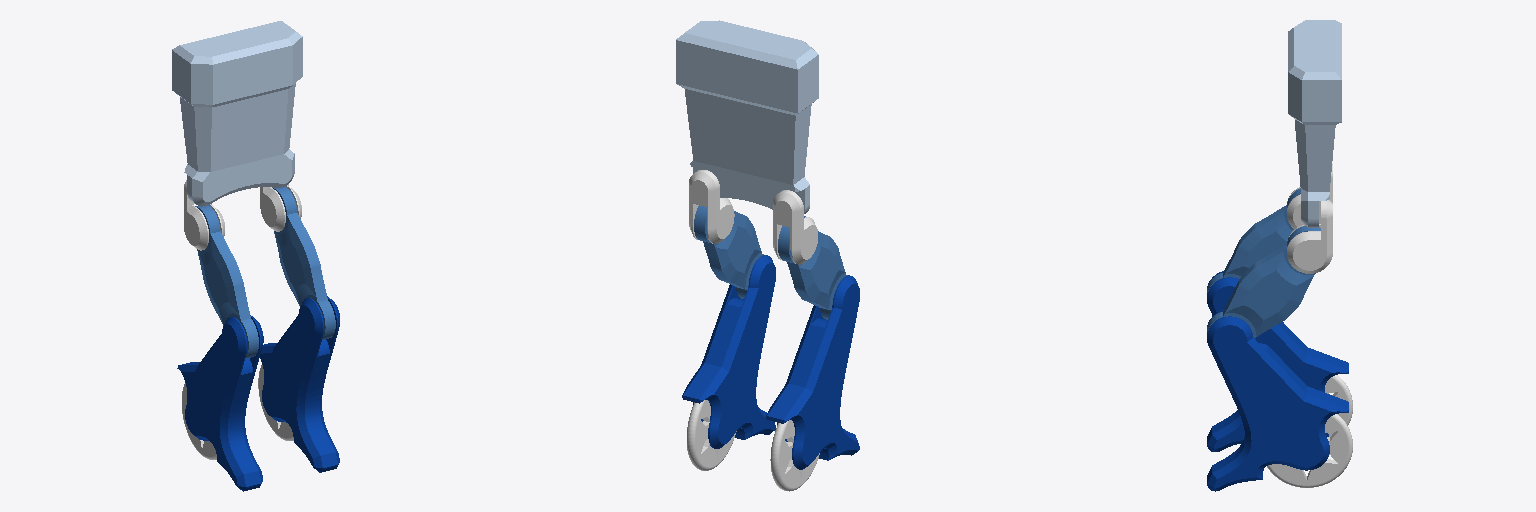
The robot description file, URDF, robot "biped":
<?xml version="1.0"?>
<robot name="biped">
    <link name="torso">
        <visual>
            <origin xyz="0 0 0" rpy="0 -0 0" />
            <geometry>
                <mesh filename="../meshes/torso.stl"/>
            </geometry>
            <material name="torso_material">
                <color rgba="0.76078431372549015776 0.83921568627450982003 0.92549019607843141522 1.0"/>
            </material>
        </visual>
        <collision>
            <origin xyz="0 0 0" rpy="0 -0 0" />
            <geometry>
                <mesh filename="../meshes/torso.stl"/>
            </geometry>
        </collision>
        <inertial>
            <origin xyz="-8.9979052879127539742e-09 3.356116910790327982e-07 -2.7069631293067085747e-07" rpy="0 0 0"/>
            <mass value="28.363312152120570886" />
            <inertia ixx="0.68698638440049342169" ixy="-3.4750011124061332784e-08"  ixz="-6.0755638353194698491e-09" iyy="1.0172231869197894127" iyz="-0.013678745958702194854" izz="0.42402971592988591976" />
        </inertial>
    </link>
    <link name="left_coxa">
        <visual>
            <origin xyz="-0.14999999999999999445 0.30524878685027001524 0.012279235532629700217" rpy="-1.570796326794896558 -0 0" />
            <geometry>
                <mesh filename="../meshes/left_coxa.stl"/>
            </geometry>
            <material name="left_coxa_material">
                <color rgba="0.91764705882352937127 0.91764705882352937127 0.91764705882352937127 1.0"/>
            </material>
        </visual>
        <collision>
            <origin xyz="-0.14999999999999999445 0.30524878685027001524 0.012279235532629700217" rpy="-1.570796326794896558 -0 0" />
            <geometry>
                <mesh filename="../meshes/left_coxa.stl"/>
            </geometry>
        </collision>
        <inertial>
            <origin xyz="2.7755575615628913511e-17 -0.090818300238879490216 0.016364668807970432496" rpy="0 0 0"/>
            <mass value="1.1561236966095187473" />
            <inertia ixx="0.0063095952447391025555" ixy="0"  ixz="0" iyy="0.0029985481606530457396" iyz="0.0015427683188057432235" izz="0.0059689235358662984937" />
        </inertial>
    </link>
    <link name="left_femur">
        <visual>
            <origin xyz="-0.077279235532629692029 -0.43524878685027001968 -1.1388229999999999187" rpy="-1.570796326794896558 -1.570796326794896558 0" />
            <geometry>
                <mesh filename="../meshes/left_femur.stl"/>
            </geometry>
            <material name="left_femur_material">
                <color rgba="0.32549019607843138191 0.52941176470588235947 0.75294117647058822484 1.0"/>
            </material>
        </visual>
        <collision>
            <origin xyz="-0.077279235532629692029 -0.43524878685027001968 -1.1388229999999999187" rpy="-1.570796326794896558 -1.570796326794896558 0" />
            <geometry>
                <mesh filename="../meshes/left_femur.stl"/>
            </geometry>
        </collision>
        <inertial>
            <origin xyz="-0.1297128755113995946 0.15223047101712150475 -0.019999953319697283405" rpy="0 0 0"/>
            <mass value="4.1258994250157527972" />
            <inertia ixx="0.04804849519718042139" ixy="0.032652119805037210787"  ixz="7.0249968935296640869e-09" iyy="0.037549187361512366412" iyz="1.3861588896791626101e-09" izz="0.083922011369516838486" />
        </inertial>
    </link>
    <link name="left_tibia">
        <visual>
            <origin xyz="0.28214499999999997915 0.73971399999999998265 0.20499999999999998779" rpy="1.570796326794896558 1.570796326794896558 0" />
            <geometry>
                <mesh filename="../meshes/left_tibia.stl"/>
            </geometry>
            <material name="left_tibia_material">
                <color rgba="0.08627450980392156743 0.31764705882352939348 0.69019607843137253944 1.0"/>
            </material>
        </visual>
        <collision>
            <origin xyz="0.28214499999999997915 0.73971399999999998265 0.20499999999999998779" rpy="1.570796326794896558 1.570796326794896558 0" />
            <geometry>
                <mesh filename="../meshes/left_tibia.stl"/>
            </geometry>
        </collision>
        <inertial>
            <origin xyz="0.11124662394100411078 -0.25522951354060685603 0.025004196348467289113" rpy="0 0 0"/>
            <mass value="10.152301233862477403" />
            <inertia ixx="0.2222010290982615599" ixy="0.021329619129980974951"  ixz="-2.9627304863256658218e-06" iyy="0.097168859866995693775" iyz="4.7988839230867566464e-06" izz="0.29991636812185856753" />
        </inertial>
    </link>
    <link name="left_wheel">
        <visual>
            <origin xyz="0.032144999999999999962 -1.1397140000000001159 -0.19500000000000000666" rpy="-1.570796326794896558 -1.570796326794896558 0" />
            <geometry>
                <mesh filename="../meshes/left_wheel.stl"/>
            </geometry>
            <material name="left_wheel_material">
                <color rgba="0.91764705882352937127 0.91764705882352937127 0.91764705882352937127 1.0"/>
            </material>
        </visual>
        <collision>
            <origin xyz="0.032144999999999999962 -1.1397140000000001159 -0.19500000000000000666" rpy="-1.570796326794896558 -1.570796326794896558 0" />
            <geometry>
                <mesh filename="../meshes/left_wheel.stl"/>
            </geometry>
        </collision>
        <inertial>
            <origin xyz="6.9388939039072283776e-18 -4.4408920985006261617e-16 -0.015000000000000013323" rpy="0 0 0"/>
            <mass value="1.8174409691886610485" />
            <inertia ixx="0.010845472934987908376" ixy="0"  ixz="0" iyy="0.010845472934987901437" iyz="0" izz="0.021431048747843635394" />
        </inertial>
    </link>
    <joint name="left_wheel" type="continuous">
        <origin xyz="0.24999999999999997224 -0.40000000000000013323 0.010000000000000036637" rpy="3.141592653589793116 -0 0" />
        <parent link="left_tibia" />
        <child link="left_wheel" />
        <axis xyz="0 0 1"/>
        <limit effort="200" velocity="20" />
        <joint_properties friction="0.0"/>
    </joint>
    <joint name="left_tibia" type="revolute">
        <origin xyz="-0.25942423553262966562 0.30446521314972985195 0.0049999999999998101519" rpy="3.141592653589793116 -6.1629758220391547298e-33 -1.8991135491519593278e-65" />
        <parent link="left_femur" />
        <child link="left_tibia" />
        <axis xyz="0 0 1"/>
        <limit effort="200" velocity="20" lower="-1.570796326794896558" upper="0.52359877559829881566"/>
        <joint_properties friction="0.0"/>
    </joint>
    <joint name="left_femur" type="revolute">
        <origin xyz="-0.02000000000000010103 -0.13000000000000011546 0.034999999999999899247" rpy="3.141592653589793116 1.570796326794896558 0" />
        <parent link="left_coxa" />
        <child link="left_femur" />
        <axis xyz="0 0 1"/>
        <limit effort="200" velocity="20" lower="-1.570796326794896558" upper="1.3089969389957472057"/>
        <joint_properties friction="0.0"/>
    </joint>
    <joint name="left_coxa" type="revolute">
        <origin xyz="0.14999999999999999445 0.017279235532629701189 -0.30524878685027001524" rpy="1.570796326794896558 -0 0" />
        <parent link="torso" />
        <child link="left_coxa" />
        <axis xyz="0 0 1"/>
        <limit effort="200" velocity="20" lower="-0.1745329251994329478" upper="1.570796326794896558"/>
        <joint_properties friction="0.0"/>
    </joint>
    <link name="right_coxa">
        <visual>
            <origin xyz="-0.015000000000000013323 -0.83446521314972998962 0.04442423553262969671" rpy="-1.570796326794896558 -0 0" />
            <geometry>
                <mesh filename="../meshes/right_coxa.stl"/>
            </geometry>
            <material name="right_coxa_material">
                <color rgba="0.91764705882352937127 0.91764705882352937127 0.91764705882352937127 1.0"/>
            </material>
        </visual>
        <collision>
            <origin xyz="-0.015000000000000013323 -0.83446521314972998962 0.04442423553262969671" rpy="-1.570796326794896558 -0 0" />
            <geometry>
                <mesh filename="../meshes/right_coxa.stl"/>
            </geometry>
        </collision>
        <inertial>
            <origin xyz="-1.0408340855860842566e-17 -0.090818300238879490216 0.016364668807970435965" rpy="0 0 0"/>
            <mass value="1.1561236966095191914" />
            <inertia ixx="0.0063095952447391042903" ixy="0"  ixz="0" iyy="0.0029985481606530474744" iyz="0.0015427683188057436572" izz="0.0059689235358663002284" />
        </inertial>
    </link>
    <link name="right_femur">
        <visual>
            <origin xyz="-0.10942423553262999036 0.70446521314972998518 0.93382299999999995865" rpy="1.570796326794896558 1.570796326794896558 0" />
            <geometry>
                <mesh filename="../meshes/right_femur.stl"/>
            </geometry>
            <material name="right_femur_material">
                <color rgba="0.32549019607843138191 0.52941176470588235947 0.75294117647058822484 1.0"/>
            </material>
        </visual>
        <collision>
            <origin xyz="-0.10942423553262999036 0.70446521314972998518 0.93382299999999995865" rpy="1.570796326794896558 1.570796326794896558 0" />
            <geometry>
                <mesh filename="../meshes/right_femur.stl"/>
            </geometry>
        </collision>
        <inertial>
            <origin xyz="-0.12971204680658918185 0.15223262058036557409 -0.02000002071481365995" rpy="0 0 0"/>
            <mass value="4.1250763406506321118" />
            <inertia ixx="0.048046967303217578971" ixy="0.032652712228342262168"  ixz="7.0251366734096470184e-09" iyy="0.03754734179176269504" iyz="1.3865690515188241738e-09" izz="0.083919407011859487033" />
        </inertial>
    </link>
    <link name="right_tibia">
        <visual>
            <origin xyz="0.25 -0.4000000000000000222 0.010000000000000008882" rpy="-1.570796326794896558 -1.570796326794896558 0" />
            <geometry>
                <mesh filename="../meshes/right_tibia.stl"/>
            </geometry>
            <material name="right_tibia_material">
                <color rgba="0.08627450980392156743 0.31764705882352939348 0.69019607843137253944 1.0"/>
            </material>
        </visual>
        <collision>
            <origin xyz="0.25 -0.4000000000000000222 0.010000000000000008882" rpy="-1.570796326794896558 -1.570796326794896558 0" />
            <geometry>
                <mesh filename="../meshes/right_tibia.stl"/>
            </geometry>
        </collision>
        <inertial>
            <origin xyz="0.11124579891706699863 -0.25522991746205125896 0.025003697068889038646" rpy="0 0 0"/>
            <mass value="10.15231375366467681" />
            <inertia ixx="0.22219995896696842497" ixy="0.021328721923574166935"  ixz="-2.6888267229009662258e-06" iyy="0.097167487227533405614" iyz="4.3276094117165155647e-06" izz="0.29991397565855243412" />
        </inertial>
    </link>
    <link name="right_wheel">
        <visual>
            <origin xyz="-3.4694469519536141888e-18 0 0" rpy="1.570796326794896558 1.570796326794896558 0" />
            <geometry>
                <mesh filename="../meshes/right_wheel.stl"/>
            </geometry>
            <material name="right_wheel_material">
                <color rgba="0.91764705882352937127 0.91764705882352937127 0.91764705882352937127 1.0"/>
            </material>
        </visual>
        <collision>
            <origin xyz="-3.4694469519536141888e-18 0 0" rpy="1.570796326794896558 1.570796326794896558 0" />
            <geometry>
                <mesh filename="../meshes/right_wheel.stl"/>
            </geometry>
        </collision>
        <inertial>
            <origin xyz="2.5406361726582887879e-17 9.7139308845148902273e-18 -0.015000000000000015057" rpy="0 0 0"/>
            <mass value="1.8174409691886774798" />
            <inertia ixx="0.01084547293498794307" ixy="0"  ixz="0" iyy="0.010845472934987939601" iyz="0" izz="0.021431048747843704783" />
        </inertial>
    </link>
    <joint name="right_wheel" type="continuous">
        <origin xyz="0.25 -0.4000000000000000222 0.010000000000000008882" rpy="3.141592653589793116 -0 0" />
        <parent link="right_tibia" />
        <child link="right_wheel" />
        <axis xyz="0 0 1"/>
        <limit effort="200" velocity="20" />
        <joint_properties friction="0.0"/>
    </joint>
    <joint name="right_tibia" type="revolute">
        <origin xyz="-0.25942423553262999869 0.30446521314972996297 0.0049999999999999489297" rpy="3.141592653589793116 -0 0" />
        <parent link="right_femur" />
        <child link="right_tibia" />
        <axis xyz="0 0 1"/>
        <limit effort="200" velocity="20" lower="-1.570796326794896558" upper="0.52359877559829881566"/>
        <joint_properties friction="0.0"/>
    </joint>
    <joint name="right_femur" type="revolute">
        <origin xyz="-0.020000000000000073275 -0.13000000000000000444 0.034999999999999913125" rpy="-3.141592653589793116 1.570796326794896558 0" />
        <parent link="right_coxa" />
        <child link="right_femur" />
        <axis xyz="0 0 1"/>
        <limit effort="200" velocity="20" lower="-1.570796326794896558" upper="1.3089969389957472057"/>
        <joint_properties friction="0.0"/>
    </joint>
    <joint name="right_coxa" type="revolute">
        <origin xyz="-0.14999999999999996669 0.017279235532629701189 -0.30524878685027012626" rpy="1.570796326794896558 -0 0" />
        <parent link="torso" />
        <child link="right_coxa" />
        <axis xyz="0 0 1"/>
        <limit effort="200" velocity="20" lower="-1.570796326794896558" upper="0.1745329251994329478"/>
        <joint_properties friction="0.0"/>
    </joint>
</robot>

--- What the picture shows (computed from the rendered views, not written in the file) ---
Views: 3 orthographic renders of the robot side by side, from view 1: azimuth 30°, elevation 25°; view 2: azimuth 150°, elevation 25°; view 3: azimuth 270°, elevation 25°.
Robot: biped — 9 links, 8 joints (6 revolute, 2 continuous); root link torso; default pose: all joints at 0.
Links seen in each view (by area): view 1: torso, right_tibia, left_tibia, right_femur, left_femur, right_coxa, left_coxa, left_wheel, right_wheel; view 2: torso, right_tibia, left_tibia, left_femur, right_femur, right_coxa, left_coxa, left_wheel, right_wheel; view 3: left_tibia, torso, left_femur, right_tibia, right_femur, left_wheel, left_coxa, right_wheel, right_coxa.
Link boxes in pixels (<box>): torso: <box>172,21,302,206</box>; right_tibia: <box>177,315,263,491</box>; left_tibia: <box>260,296,339,472</box>; right_femur: <box>195,205,258,358</box>; left_femur: <box>273,186,335,339</box>; right_coxa: <box>184,180,224,250</box>; left_coxa: <box>260,184,301,231</box>; left_wheel: <box>258,365,293,440</box>; right_wheel: <box>182,383,216,459</box>; torso: <box>676,20,818,213</box>; right_tibia: <box>766,275,859,469</box>; left_tibia: <box>682,255,775,448</box>; left_femur: <box>694,205,763,298</box>; right_femur: <box>778,216,847,319</box>; right_coxa: <box>773,190,817,264</box>; left_coxa: <box>689,170,734,243</box>; left_wheel: <box>687,400,736,470</box>; right_wheel: <box>770,420,819,491</box>; left_tibia: <box>1207,310,1348,491</box>; torso: <box>1288,20,1341,227</box>; left_femur: <box>1207,226,1320,337</box>; right_tibia: <box>1207,271,1348,451</box>; right_femur: <box>1207,188,1300,292</box>; left_wheel: <box>1267,414,1352,487</box>; left_coxa: <box>1287,200,1332,273</box>; right_wheel: <box>1325,375,1352,436</box>; right_coxa: <box>1287,164,1332,229</box>.
Bounding box of the posed robot: 0.4376 × 0.475 × 1.51 m (x, y, z).
Meshes: 9 distinct files referenced, 9 mesh visuals loaded (9 binary STL).